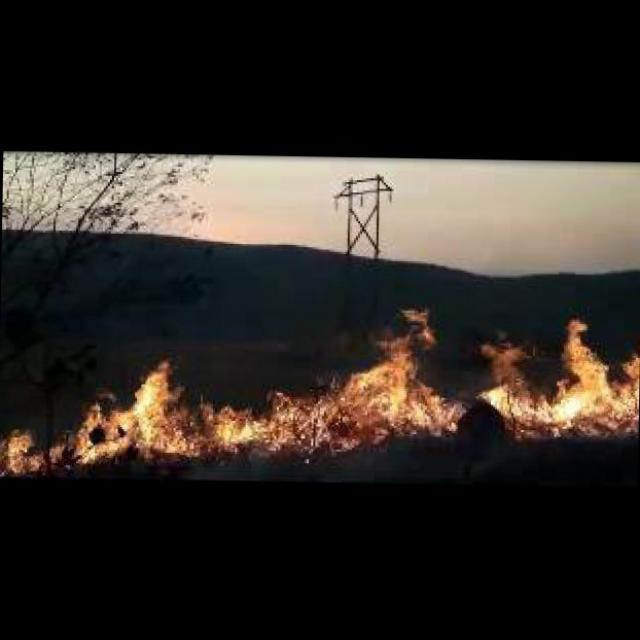fire: (0, 303, 463, 478), (477, 308, 640, 447)
